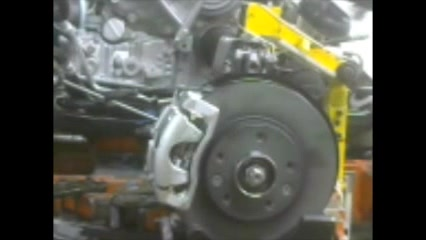DD3: (212, 72, 340, 216)
P3: (142, 88, 221, 213)
